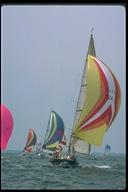sailboat: (47, 26, 122, 169), (40, 107, 66, 159), (20, 127, 41, 158)
sky: (2, 6, 76, 105)
water: (1, 168, 126, 188)
